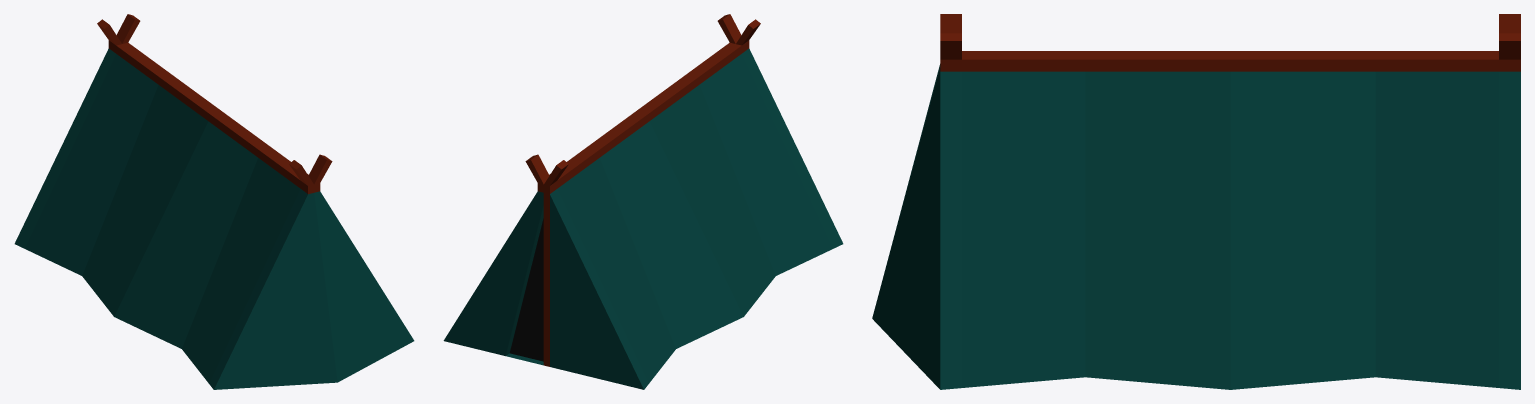
File: Tent.fbx
The picture shows the model from 3 angles, left to right: view 1: azimuth 30°, elevation 25°; view 2: azimuth 150°, elevation 25°; view 3: azimuth 270°, elevation 25°; orthographic projection. The views are drawn at different scales.
Visible parts, largest first — view 1: Cube.019; view 2: Cube.019; view 3: Cube.019.
Boxes of the visible parts, left/top/right/bottom form: Cube.019: left=14, top=14, right=414, bottom=389; Cube.019: left=443, top=14, right=843, bottom=389; Cube.019: left=872, top=14, right=1520, bottom=389.
Bounding box in the file's own units: 243 × 235 × 468.
